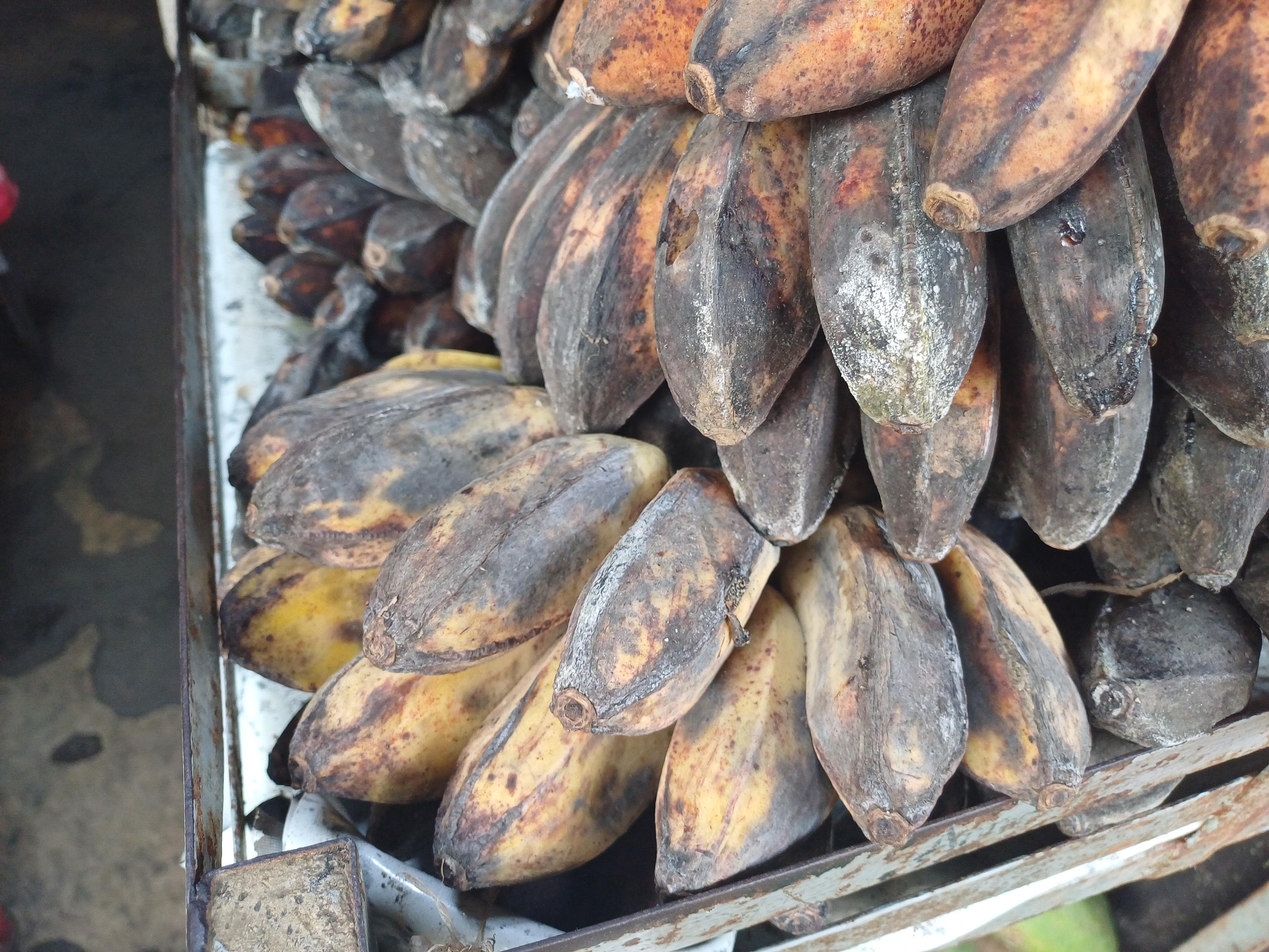overripe: (219, 351, 1091, 894), (475, 76, 1164, 559), (1088, 131, 1269, 591), (232, 105, 499, 362), (294, 46, 561, 226), (186, 0, 565, 112)
ripe: (546, 0, 1269, 261)
